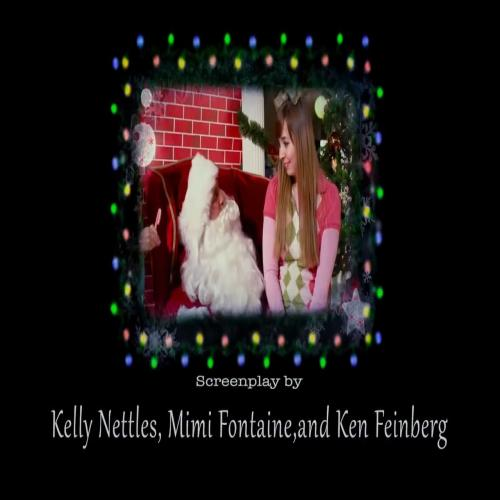Santa: (168, 155, 261, 314)
